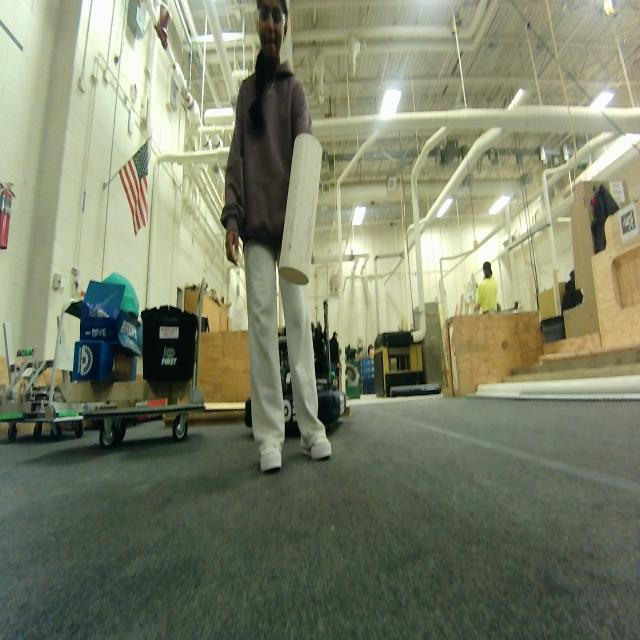coral: (276, 130, 330, 294)
